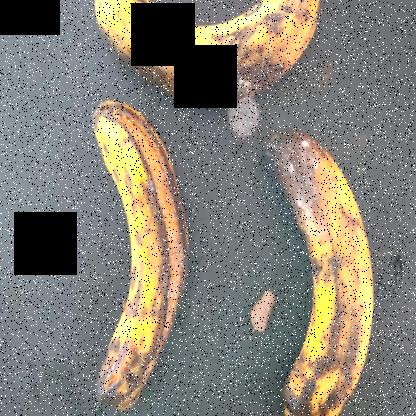rotten: (79, 92, 204, 415), (258, 122, 387, 415), (86, 0, 321, 105)
